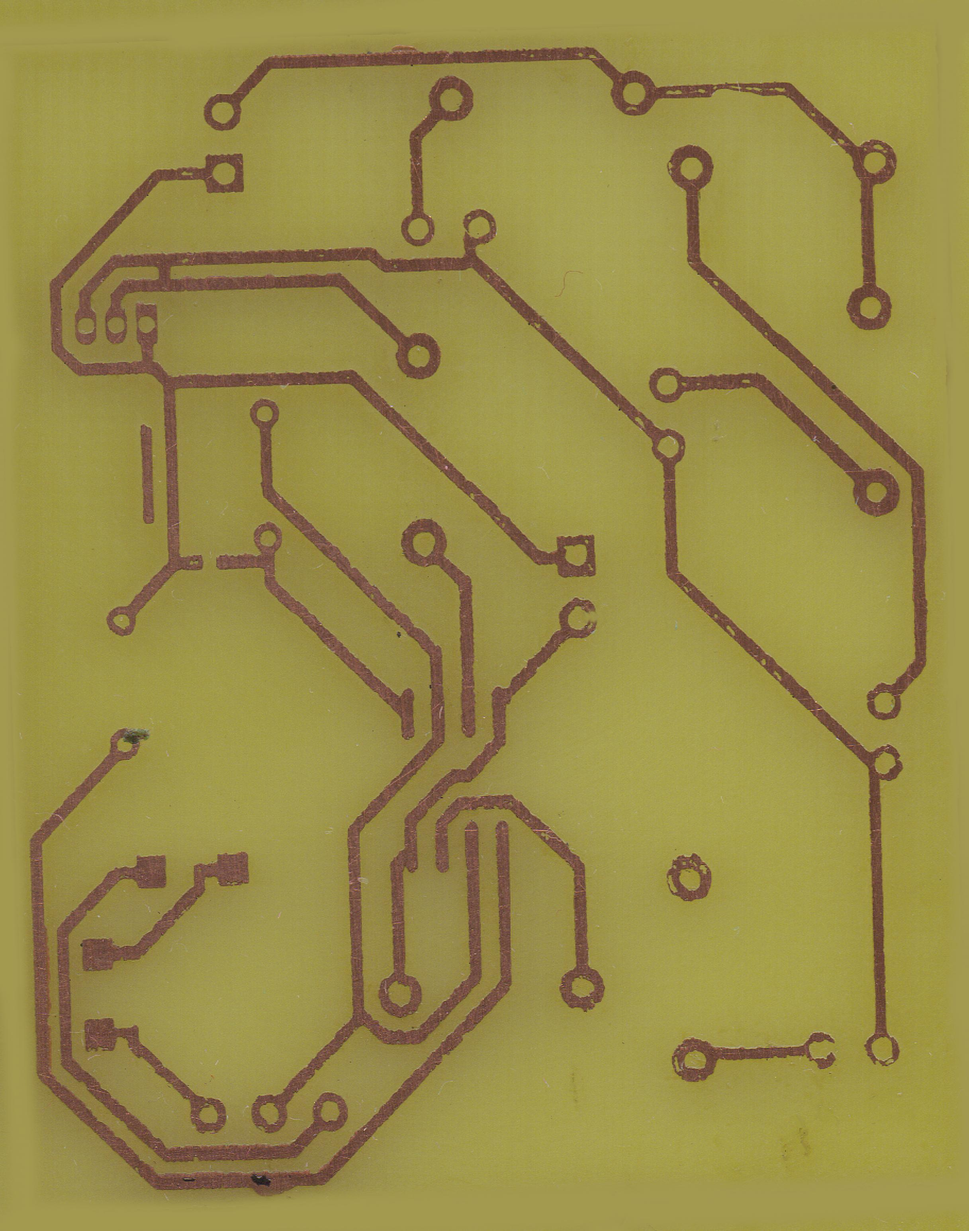missing_hole: (666, 854, 711, 899), (557, 599, 600, 640), (797, 1032, 841, 1070), (863, 1030, 902, 1072)
mouse_bite: (703, 81, 766, 102)
open_circuit: (195, 548, 231, 574)
short: (151, 250, 178, 294)
spur: (243, 1168, 301, 1205), (390, 41, 419, 66)
spurious_copper: (137, 421, 162, 528)
